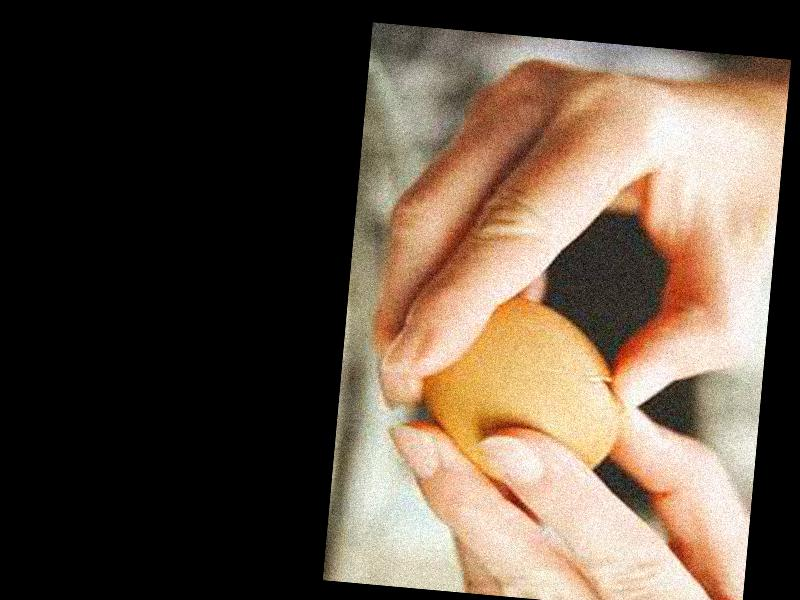Eggs: (412, 290, 632, 493)
